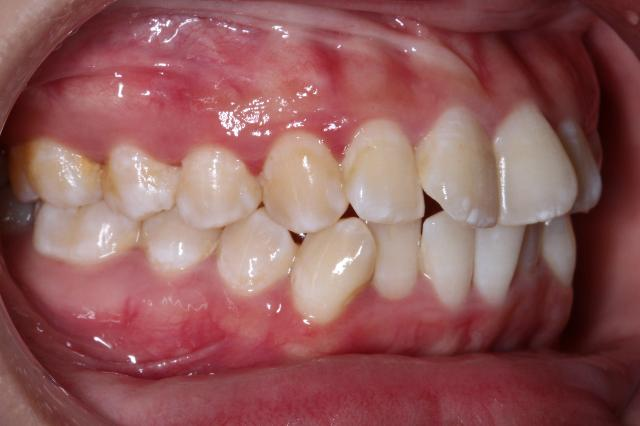canine class I: (213, 99, 383, 330)
molar class III 1/2: (7, 142, 143, 270)
